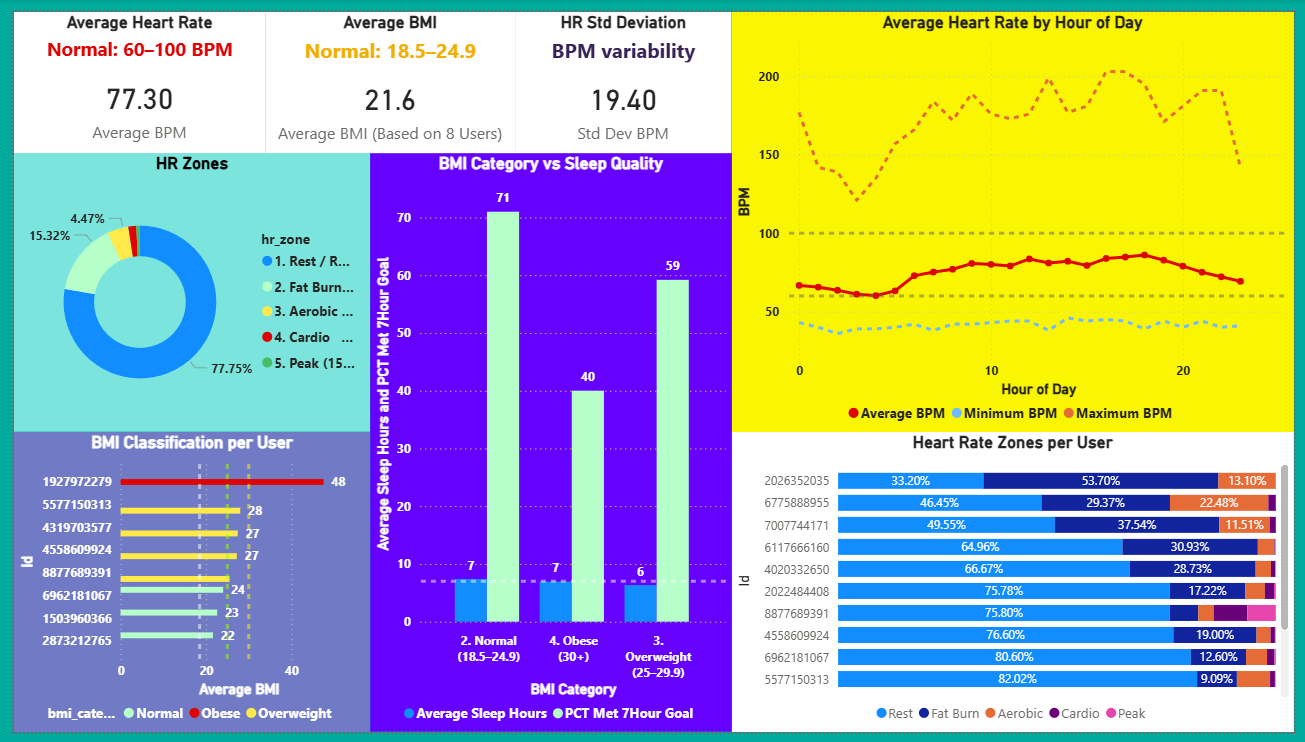

The dashboard page shown, as its layout file describes it:
{"tool":"powerbi","page":{"name":"Health Metrics","canvas":[1280,720],"ordinal":4},"visuals":[{"type":"card","title":"Average Heart Rate","fields":{"Values":["Sum(heartrate_summary.avg_bpm)"]},"box":[0,0,251.2,141.2],"z":0},{"type":"card","title":"Average BMI","fields":{"Values":["Min(user_segmentation.avg_bmi)"]},"box":[251.2,0,250,141.2],"z":1000},{"type":"card","title":"HR Std Deviation","fields":{"Values":["Sum(heartrate_summary.std_dev_bpm)"]},"box":[501.2,0,216.2,141.2],"z":2000},{"type":"donutChart","title":"HR Zones","fields":{"Category":["heartrate_zone_distribution.hr_zone"],"Y":["Sum(heartrate_zone_distribution.pct_of_time)"]},"box":[0,141.2,356.2,278.8],"z":3000},{"type":"hundredPercentStackedBarChart","title":"Heart Rate Zones per User","fields":{"Y":["Sum(heartrate_zone_per_user.pct_zone1_rest)","Sum(heartrate_zone_per_user.pct_zone2_fat_burn)","Sum(heartrate_zone_per_user.pct_zone3_aerobic)","Sum(heartrate_zone_per_user.pct_zone4_cardio)","Sum(heartrate_zone_per_user.pct_zone5_peak)"],"Category":["heartrate_zone_per_user.Id"]},"box":[717.5,420,562.5,300],"z":4000},{"type":"lineChart","title":"Average Heart Rate by Hour of Day","fields":{"Category":["average_heartrate_by_hour_of_day.HourOfDay"],"Y":["Sum(average_heartrate_by_hour_of_day.avg_bpm)","Sum(average_heartrate_by_hour_of_day.min_bpm)","Sum(average_heartrate_by_hour_of_day.max_bpm)"]},"box":[717.5,0,562.5,420],"z":5000},{"type":"clusteredBarChart","title":"BMI Classification per User","fields":{"Category":["bmi_classification_per_user.Id"],"Y":["Sum(bmi_classification_per_user.avg_bmi)"],"Series":["bmi_classification_per_user.bmi_category"]},"box":[0,420,356.2,300],"z":6000},{"type":"clusteredColumnChart","title":"BMI Category vs Sleep Quality","fields":{"Category":["bmi_category_vs_sleep_quality.bmi_category"],"Y":["Sum(bmi_category_vs_sleep_quality.avg_sleep_hours)","Sum(bmi_category_vs_sleep_quality.pct_met_7hr_goal)"]},"box":[356.2,141.2,361.2,578.8],"z":7000}]}

Visuals, with their boxes in screenshot pixels (x1, y1, x2, y2), scaled from the page's 1280x720 canvas onto the 1305x742 screenshot:
"Average Heart Rate" card: [0, 0, 256, 146]
"Average BMI" card: [256, 0, 511, 146]
"HR Std Deviation" card: [511, 0, 731, 146]
"HR Zones" donutChart: [0, 146, 363, 433]
"Heart Rate Zones per User" hundredPercentStackedBarChart: [732, 433, 1304, 741]
"Average Heart Rate by Hour of Day" lineChart: [732, 0, 1304, 433]
"BMI Classification per User" clusteredBarChart: [0, 433, 363, 741]
"BMI Category vs Sleep Quality" clusteredColumnChart: [363, 146, 731, 741]
